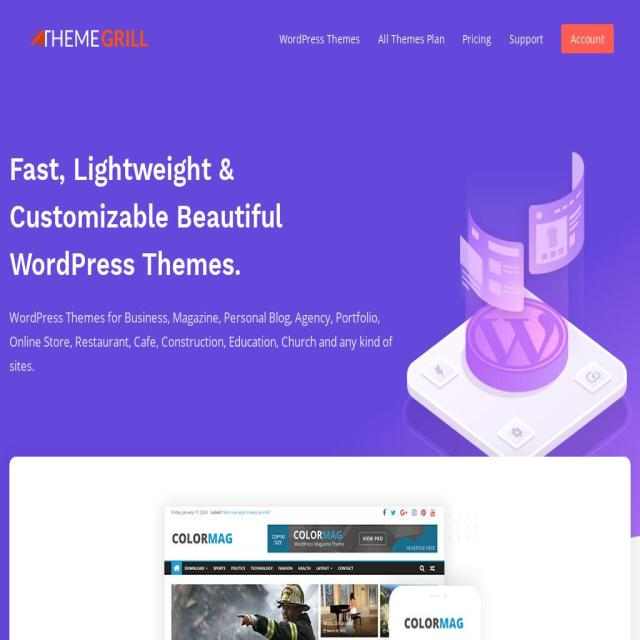button: (139, 473, 501, 640), (26, 23, 158, 54), (561, 24, 614, 54)
heading: (9, 146, 394, 288)
image: (403, 77, 631, 511), (0, 536, 640, 640), (139, 473, 501, 640), (26, 23, 158, 54)
link: (279, 28, 360, 49), (377, 28, 445, 49), (170, 41, 228, 59), (509, 28, 544, 49), (462, 28, 492, 49)
text: (9, 305, 394, 377), (170, 38, 404, 60)
